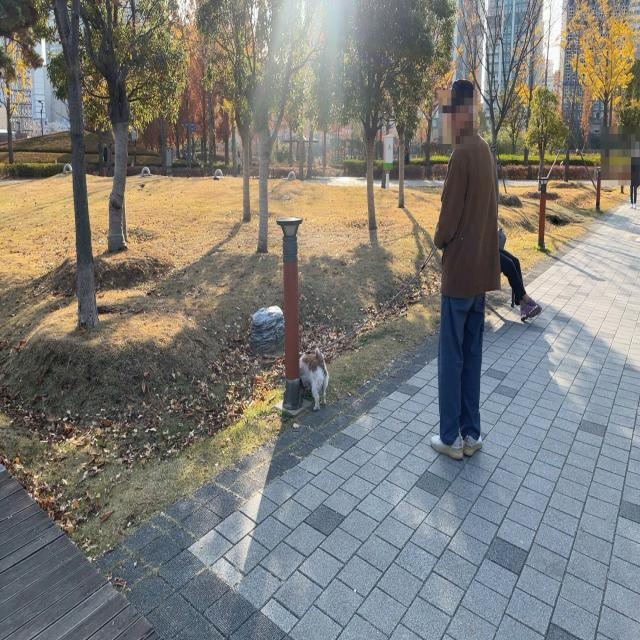Leashed_Dog: (299, 230, 450, 413)
